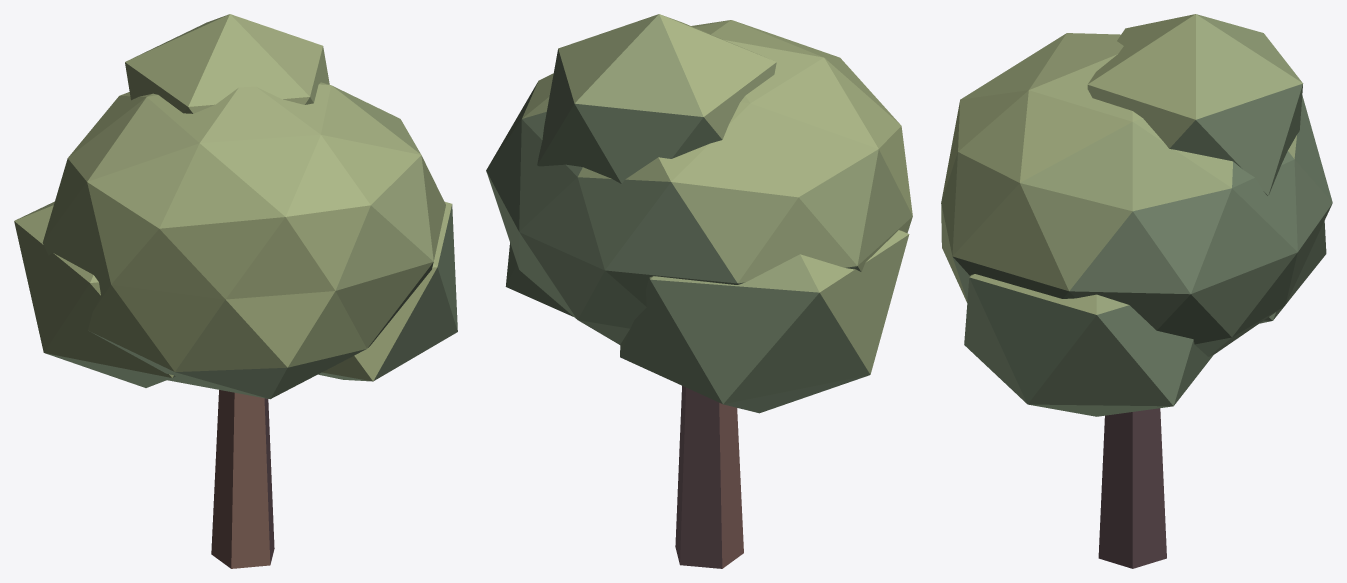
File: tree_round.glb
3 renders of one model, left to right at view 1: azimuth 30°, elevation 25°; view 2: azimuth 150°, elevation 25°; view 3: azimuth 270°, elevation 25°, orthographic. The views are drawn at different scales.
Visible parts, largest first — view 1: tree_round; view 2: tree_round; view 3: tree_round.
Boxes of the visible parts, box(x1,y1,x2,y2) form: tree_round: box(14, 14, 457, 568); tree_round: box(486, 14, 912, 568); tree_round: box(941, 14, 1332, 568).
Size of the model in its own units: 2.49 by 3.35 by 2.18.
